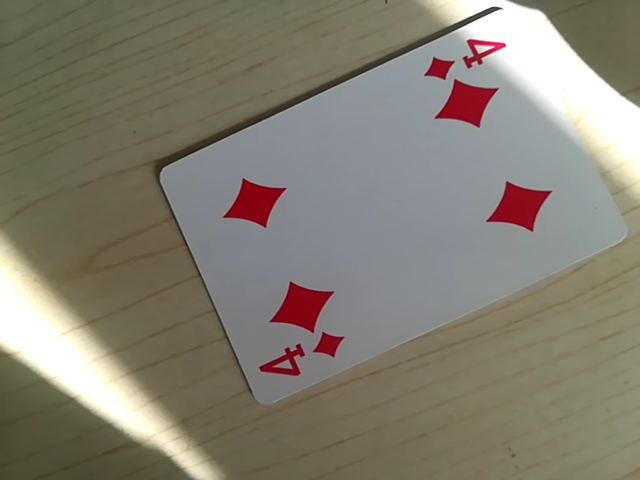fk 4: (426, 16, 508, 83), (255, 331, 348, 385)
